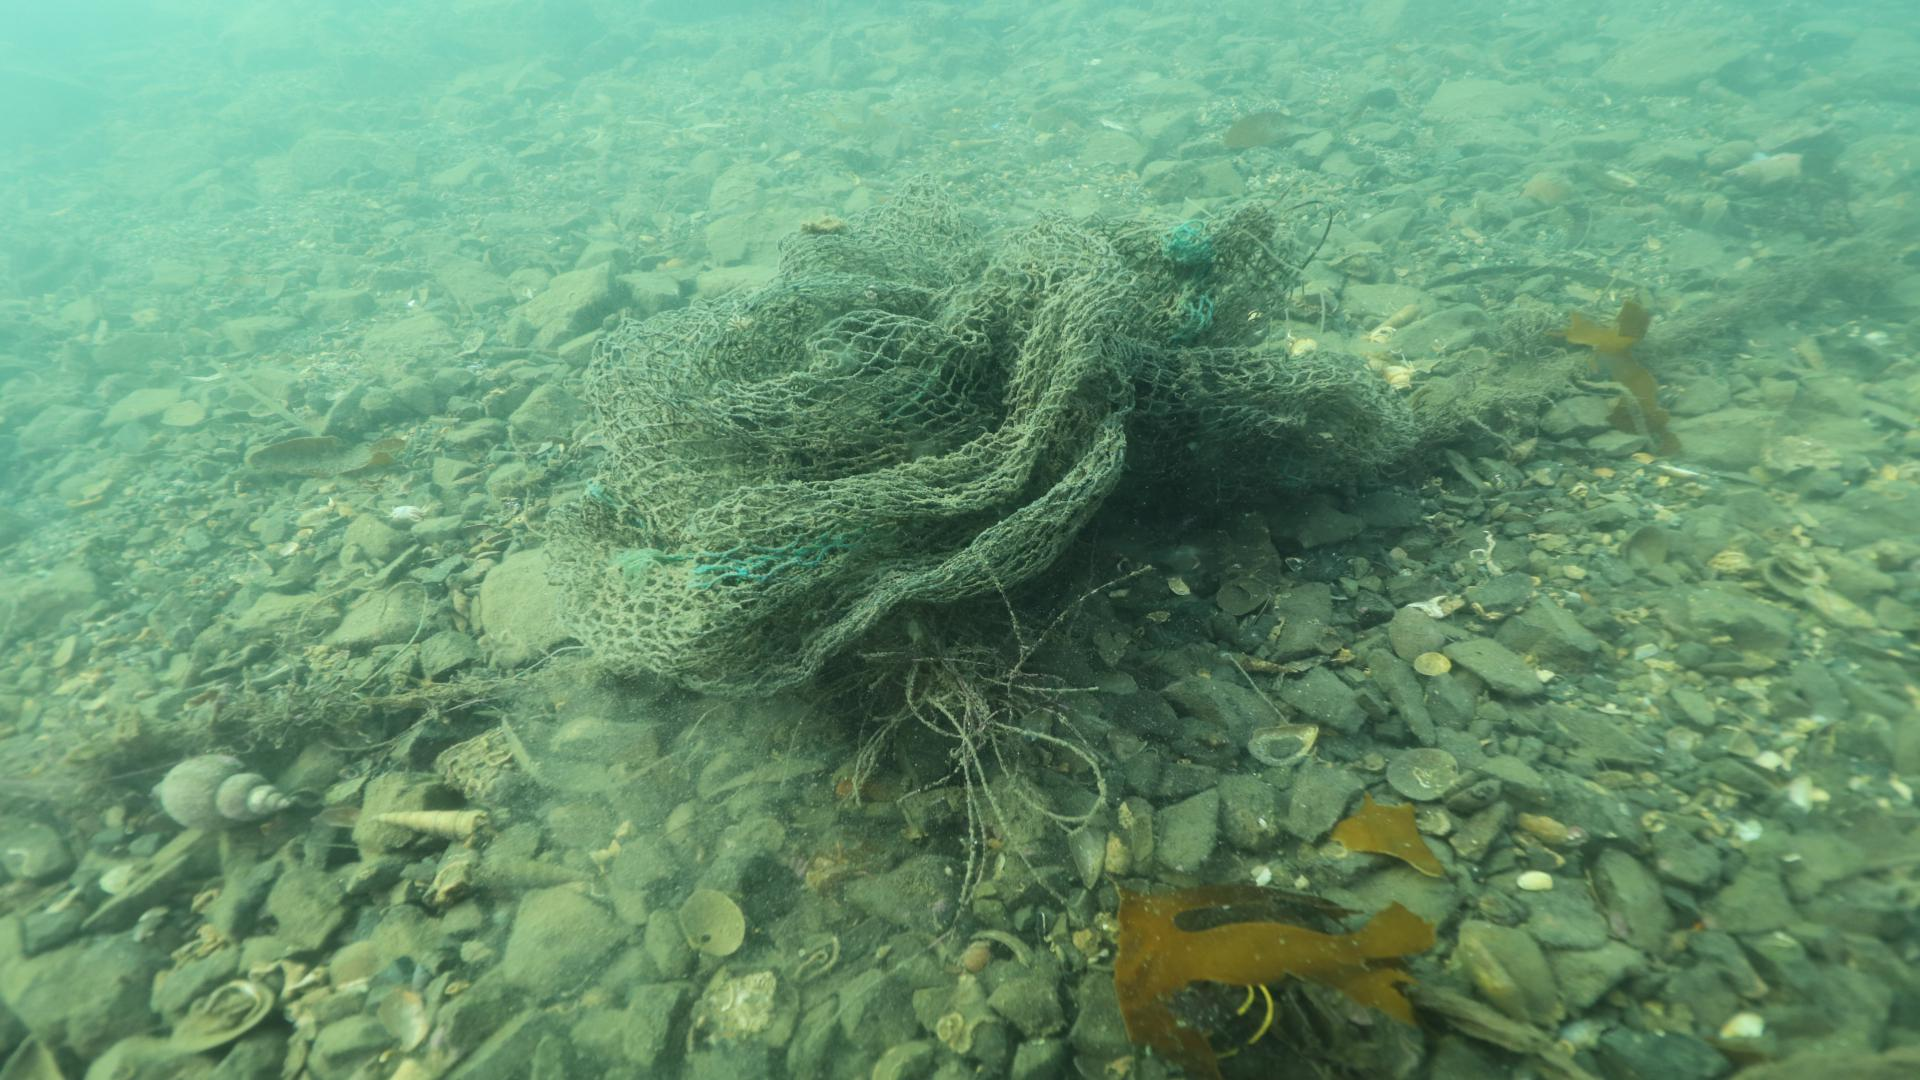fish net: (541, 167, 1377, 694)
